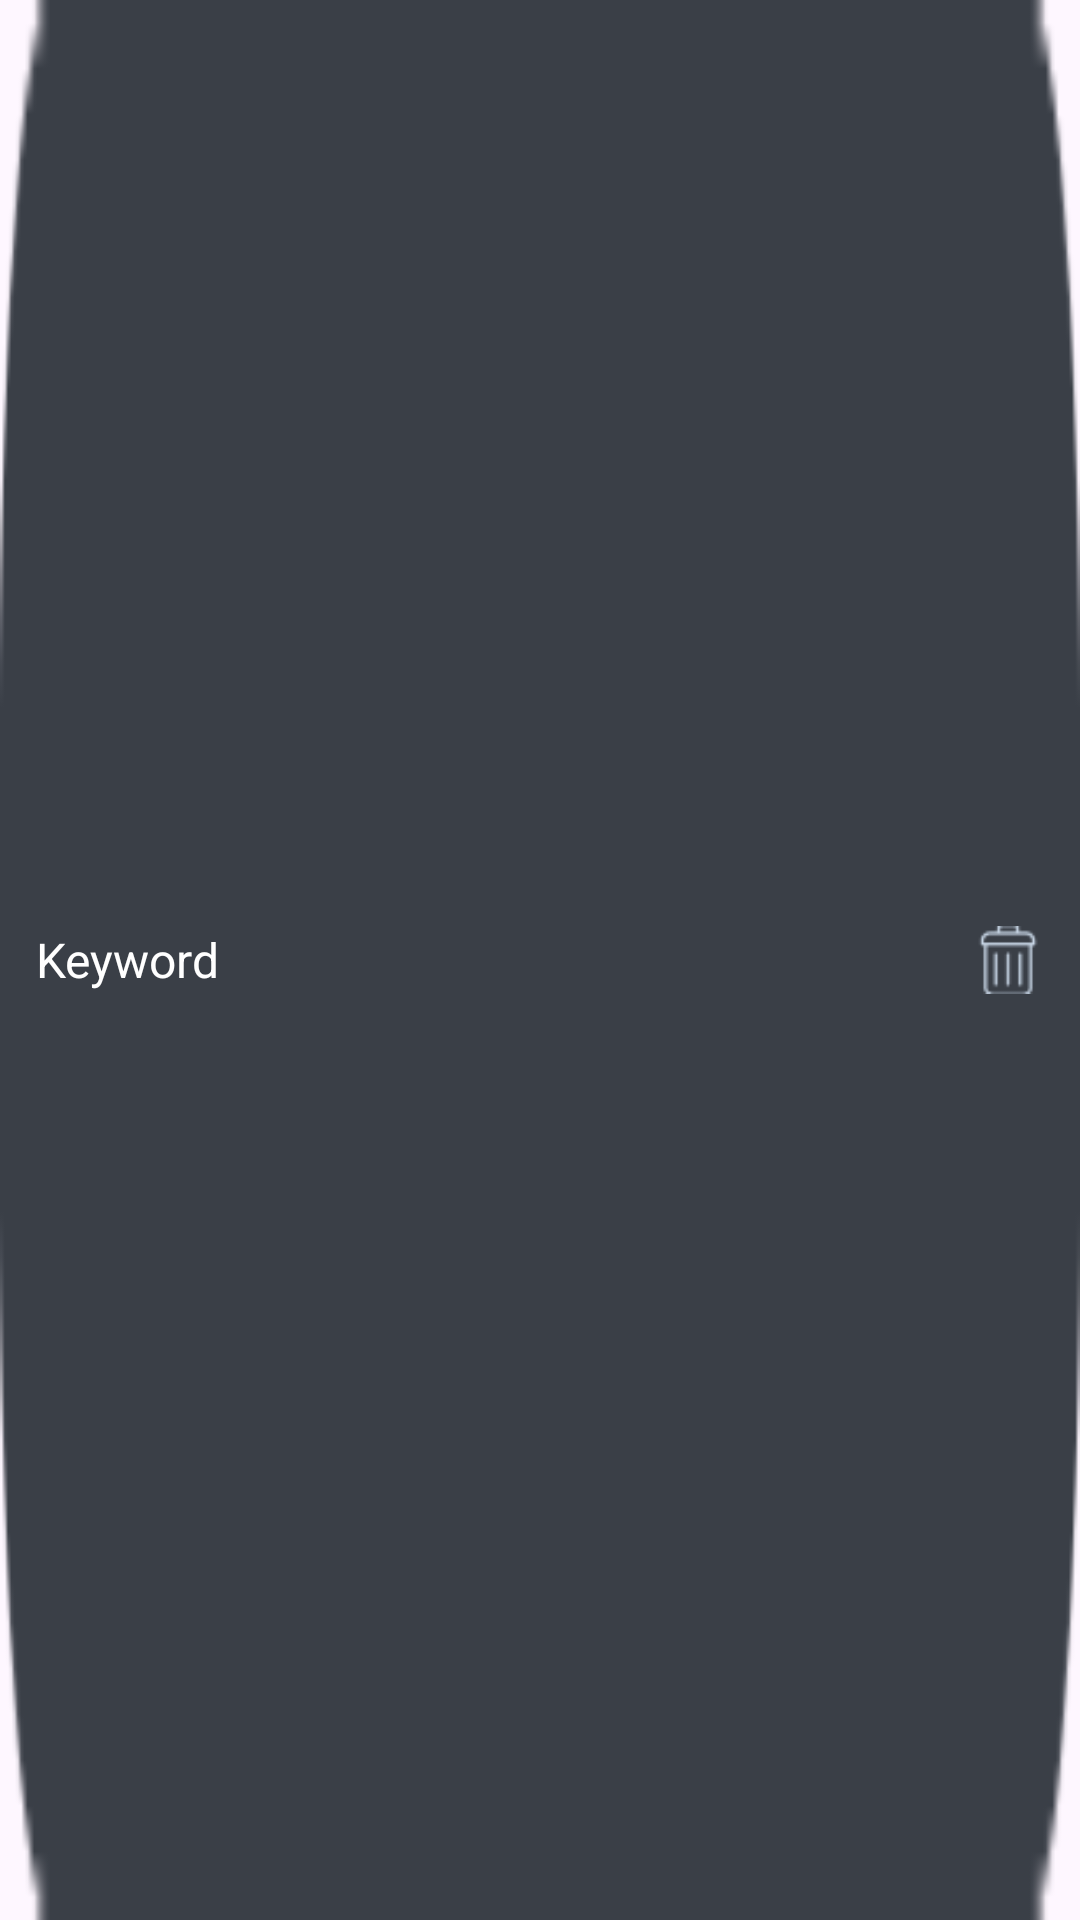

Locate icon controls on the screen. Image size 1080px x 1920px, boxes as (x1=x1, y1=y1, x2=x2, y2=y2).
Delete Icon: (x1=980, y1=926, x2=1037, y2=994)
